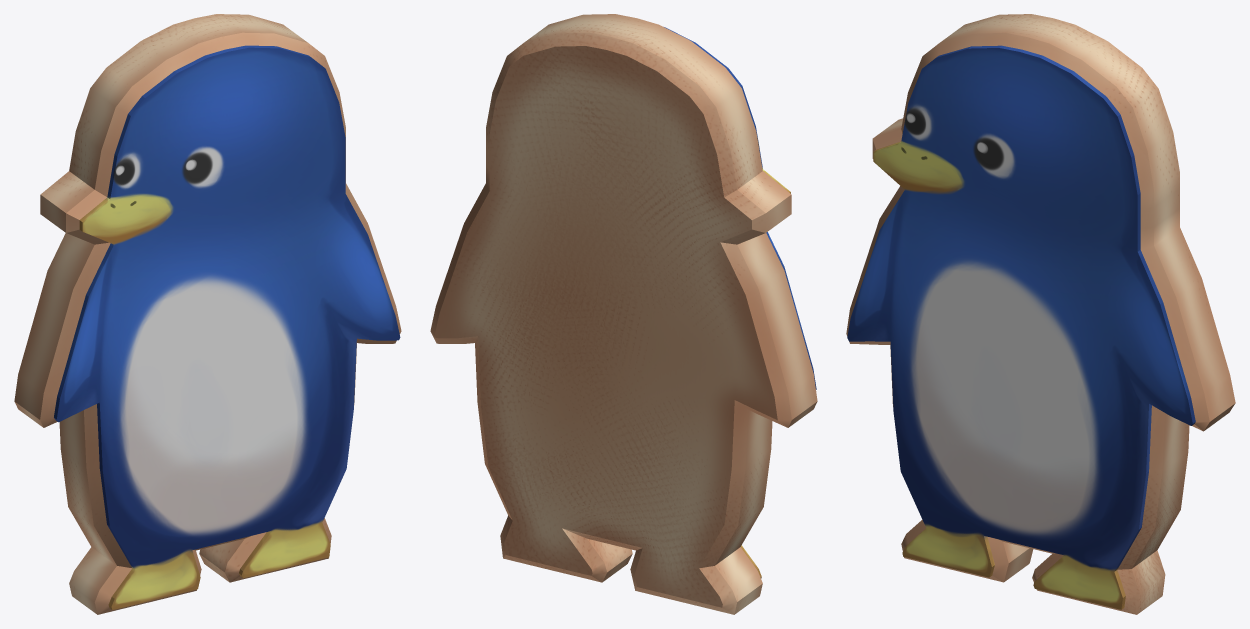
The model's file is pengin_new.fbx.
3 renders of one model, left to right at view 1: azimuth 30°, elevation 25°; view 2: azimuth 150°, elevation 25°; view 3: azimuth 330°, elevation 25°, orthographic.
Visible parts, largest first — view 1: pengin_boy; view 2: pengin_boy; view 3: pengin_boy.
Part boxes in pixels (box(x1,y1,x2,y2)): pengin_boy: box(14, 14, 401, 614); pengin_boy: box(430, 14, 817, 614); pengin_boy: box(846, 14, 1235, 614).
Bounding box in the file's own units: 46.83 × 67.84 × 8.66.
